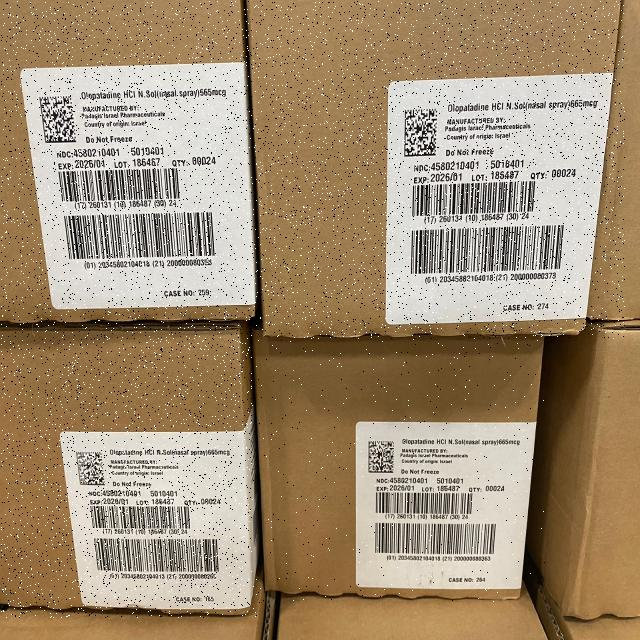BoxFace: (245, 1, 625, 339), (1, 1, 257, 326), (252, 328, 546, 602), (1, 320, 260, 618)
